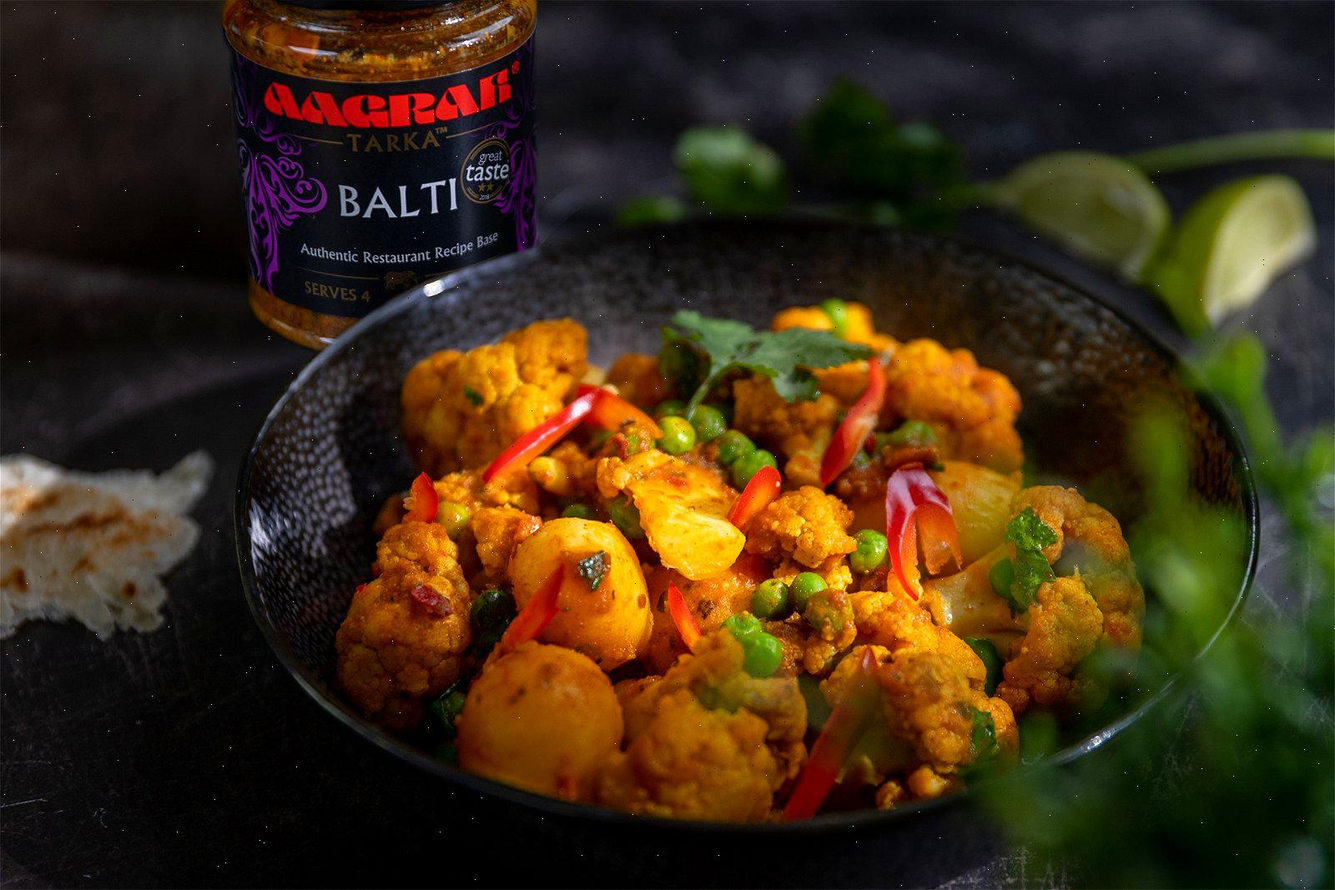aloo gobhi: (322, 272, 1193, 812)
